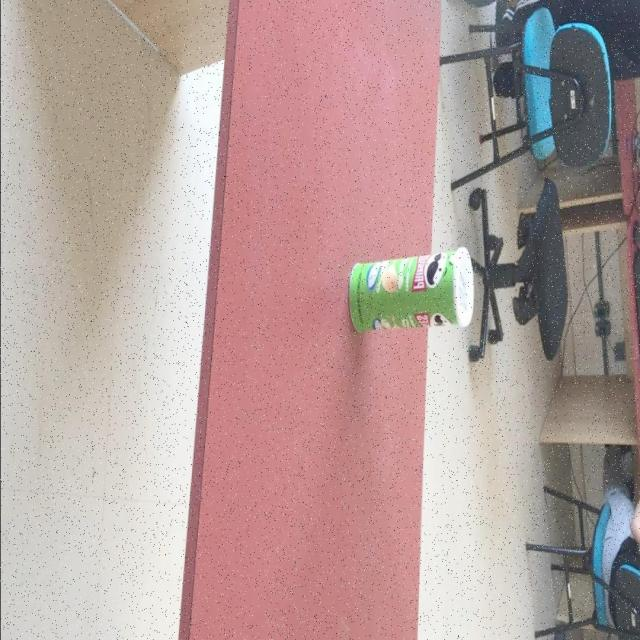Pringles: (349, 248, 475, 334)
